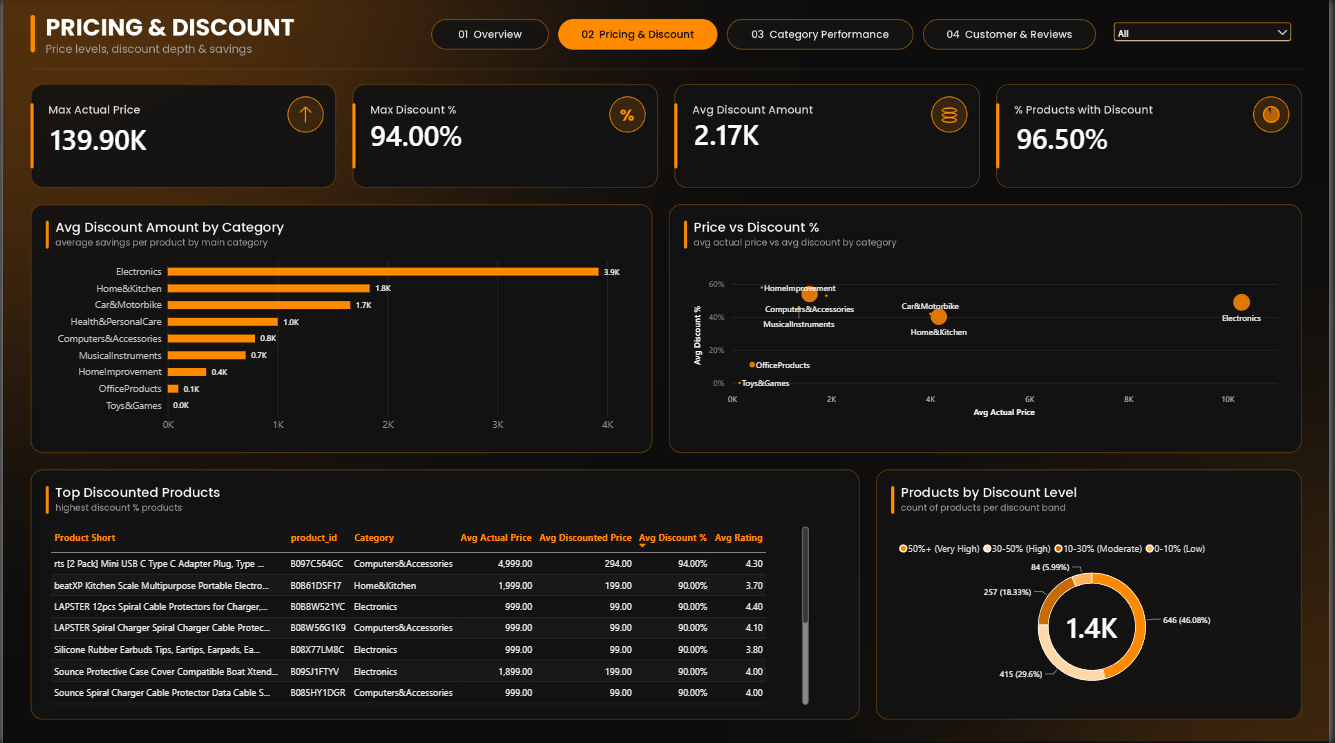

Layout of this report page (visuals, bound fields, positions):
{"tool":"powerbi","page":{"name":"Pricing & Discount Analysis","canvas":[1920,1080],"ordinal":2},"visuals":[{"type":"cardVisual","fields":{"Data":["meseaur.Max Actual Price"]},"box":[52.9,139.2,222.6,127.4],"z":0},{"type":"cardVisual","fields":{"Data":["meseaur.Avg Discount Amount"]},"box":[984.3,137.3,222.9,118.6],"z":1000},{"type":"cardVisual","fields":{"Data":["meseaur.Max Discount %"]},"box":[515.7,131.4,222.9,130],"z":2000},{"type":"cardVisual","fields":{"Data":["meseaur.% Products with Discount"]},"box":[1451,145.1,222.9,115.7],"z":3000},{"type":"donutChart","fields":{"Category":["Fact_Products.Discount Bucket"],"Y":["meseaur.Total Products"]},"box":[1280.4,766.7,590.2,258.8],"z":4000},{"type":"scatterChart","fields":{"Category":["Dim_Category.Main Category"],"Size":["meseaur.Total Products"],"X":["meseaur.Avg Actual Price"],"Y":["meseaur.Avg Discount %"]},"box":[984.3,384.3,886.3,239.2],"z":5000},{"type":"tableEx","fields":{"Values":["Fact_Products.Product Short","Fact_Products.product_id","Dim_Category.Main Category","meseaur.Avg Actual Price","meseaur.Avg Discounted Price","meseaur.Avg Discount %","meseaur.Avg Rating"]},"box":[52.9,751,1129.4,288.2],"z":6000},{"type":"clusteredBarChart","fields":{"Category":["Dim_Category.Main Category"],"Y":["meseaur.Avg Discount Amount"]},"box":[52.9,358.8,864.7,290.2],"z":7000},{"type":"slicer","fields":{"Values":["Dim_Category.Main Category"]},"box":[1603.9,31.4,266.7,52.9],"z":8000},{"type":"actionButton","box":[629.8,30.8,161.1,39.8],"z":9000},{"type":"actionButton","box":[819.8,34.4,193.6,39.8],"z":10000},{"type":"actionButton","box":[1058.7,30.8,246.1,39.8],"z":11000},{"type":"actionButton","box":[1342.8,30.8,242.5,47.1],"z":12000}]}

Visuals, with their boxes in screenshot pixels (x1, y1, x2, y2), scaled from the page's 1920x1080 canvas onto the 1335x743 screenshot:
cardVisual - meseaur.Max Actual Price: (37, 96, 192, 183)
cardVisual - meseaur.Avg Discount Amount: (684, 94, 839, 176)
cardVisual - meseaur.Max Discount %: (359, 90, 514, 180)
cardVisual - meseaur.% Products with Discount: (1009, 100, 1164, 179)
donutChart - Fact_Products.Discount Bucket x meseaur.Total Products: (890, 527, 1301, 706)
scatterChart - Dim_Category.Main Category x meseaur.Total Products: (684, 264, 1301, 429)
tableEx - Fact_Products.Product Short x Fact_Products.product_id: (37, 517, 822, 715)
clusteredBarChart - Dim_Category.Main Category x meseaur.Avg Discount Amount: (37, 247, 638, 446)
slicer - Dim_Category.Main Category: (1115, 22, 1301, 58)
actionButton: (438, 21, 550, 49)
actionButton: (570, 24, 705, 51)
actionButton: (736, 21, 907, 49)
actionButton: (934, 21, 1102, 54)
